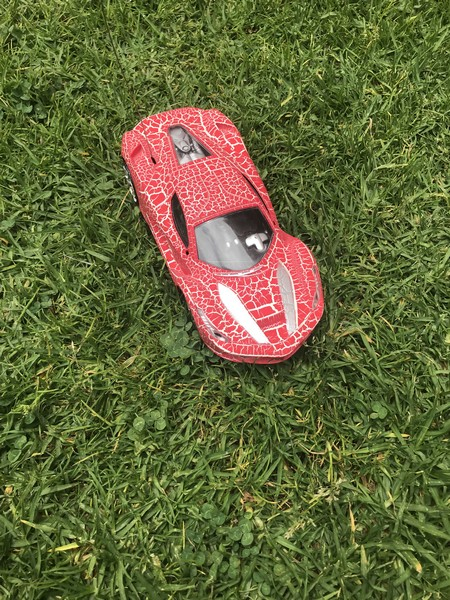RC: (117, 107, 329, 367)
